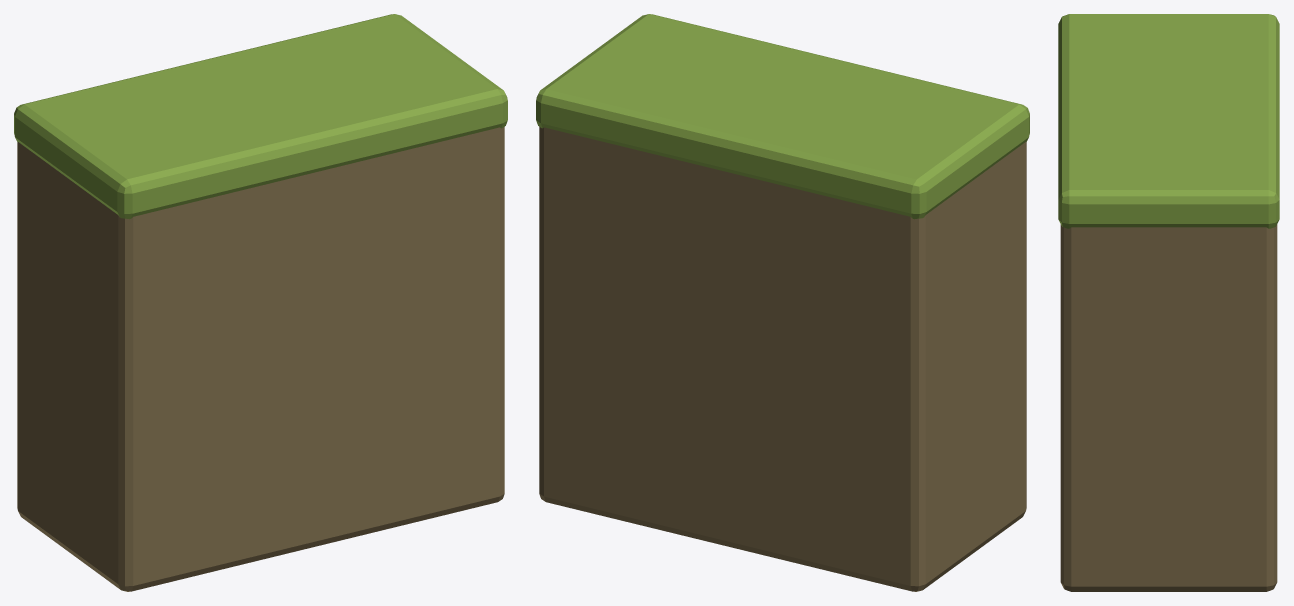
The model's file is SM_Platform_1m_02_C.fbx.
The picture shows the model from 3 angles, left to right: view 1: azimuth 30°, elevation 25°; view 2: azimuth 150°, elevation 25°; view 3: azimuth 270°, elevation 25°; orthographic projection. The views are drawn at different scales.
Parts seen in each view (by area): view 1: polySurface81; view 2: polySurface81; view 3: polySurface81.
Boxes of the visible parts, x1,y1,x2,y2 form: polySurface81: (14, 14, 507, 591); polySurface81: (536, 14, 1029, 591); polySurface81: (1058, 14, 1279, 591).
Size of the model in its own units: 202 by 205 by 102.
